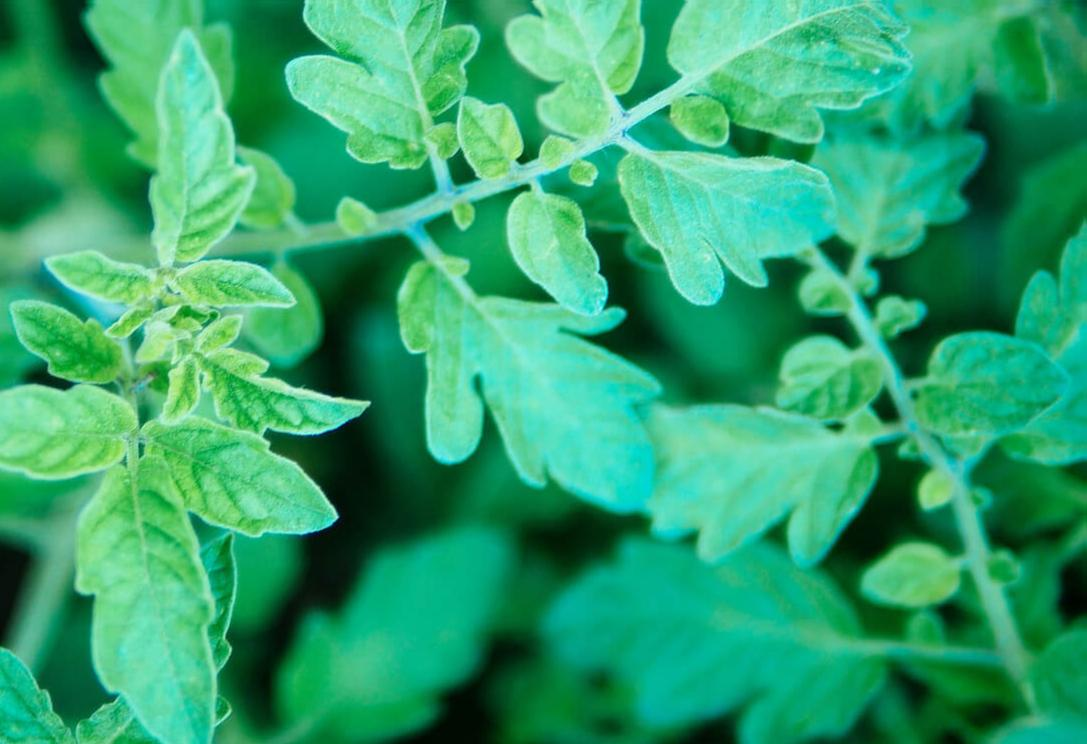Tomato leaf: (393, 230, 655, 520), (614, 130, 854, 307), (78, 439, 208, 744), (274, 0, 480, 188), (663, 0, 916, 147), (129, 414, 359, 548), (142, 26, 254, 279), (497, 0, 635, 158), (0, 377, 137, 477)
